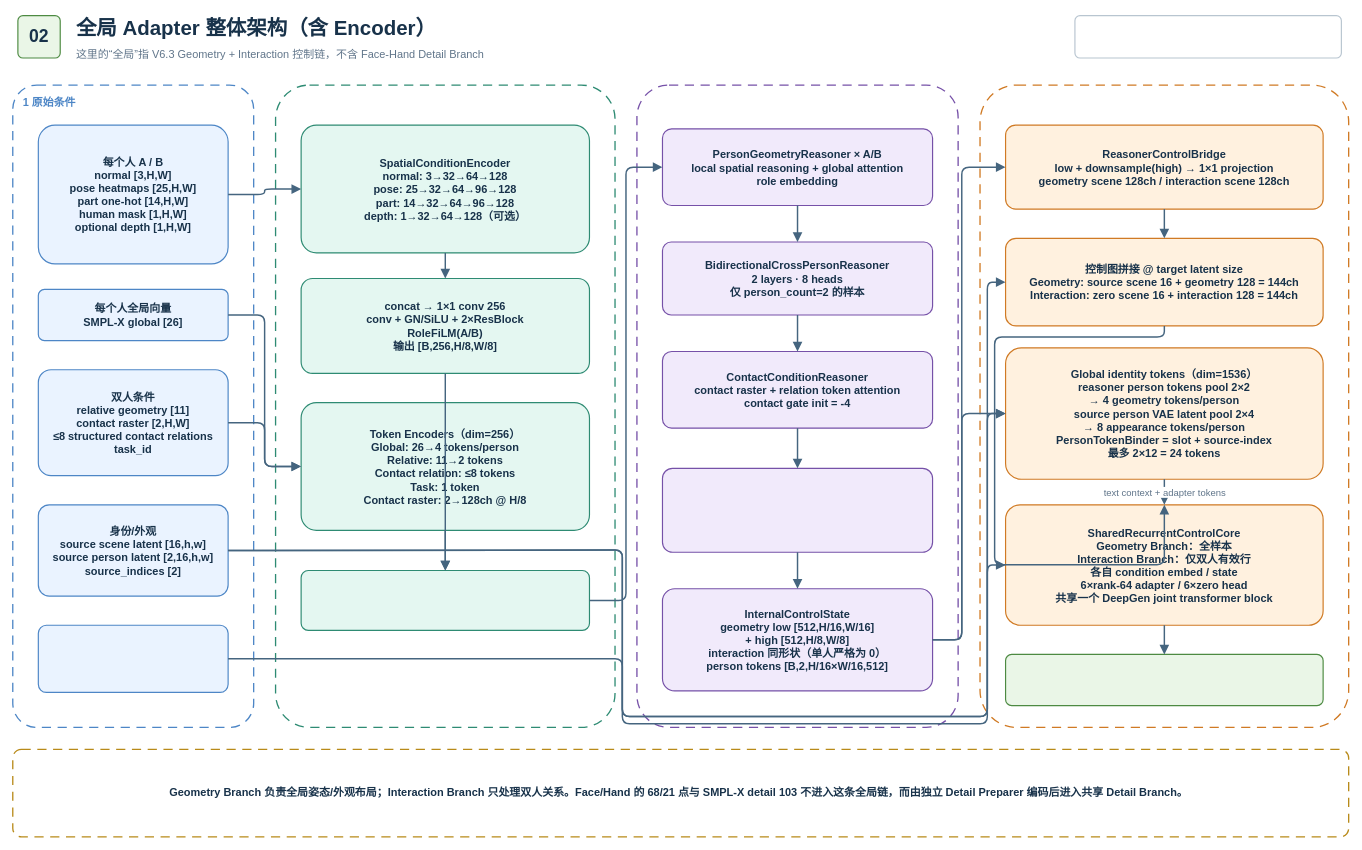
The diagram is 1362 pixels wide and 850 high, and some of its shapes have lost their labels. The box of each missing label's shape, as (x1, y1, x2, y2) in pixels:
2 Condition Injector / Encoders: (275, 84, 615, 728)
3 SMPL-X Reasoning: (636, 84, 958, 728)
4 Bridge + Global Control Core: (979, 84, 1349, 728)
ConditionBundle person_valid / person_count / masks: (300, 570, 590, 631)
DualFeatureFusion 单人：local geometry path 双人：geometry + cross-person + contact: (662, 467, 933, 552)
关键边界: (12, 748, 1349, 837)
目标噪声 latent + text context timestep / pooled text: (37, 624, 228, 693)
蓝=输入 绿=编码 紫=推理 橙=Adapter 红=Detail 灰=冻结: (1074, 15, 1342, 58)
输出 geometry 6×[B,Ntarget,1536] interaction 6×[B,Ntarget,1536]: (1005, 653, 1323, 706)
